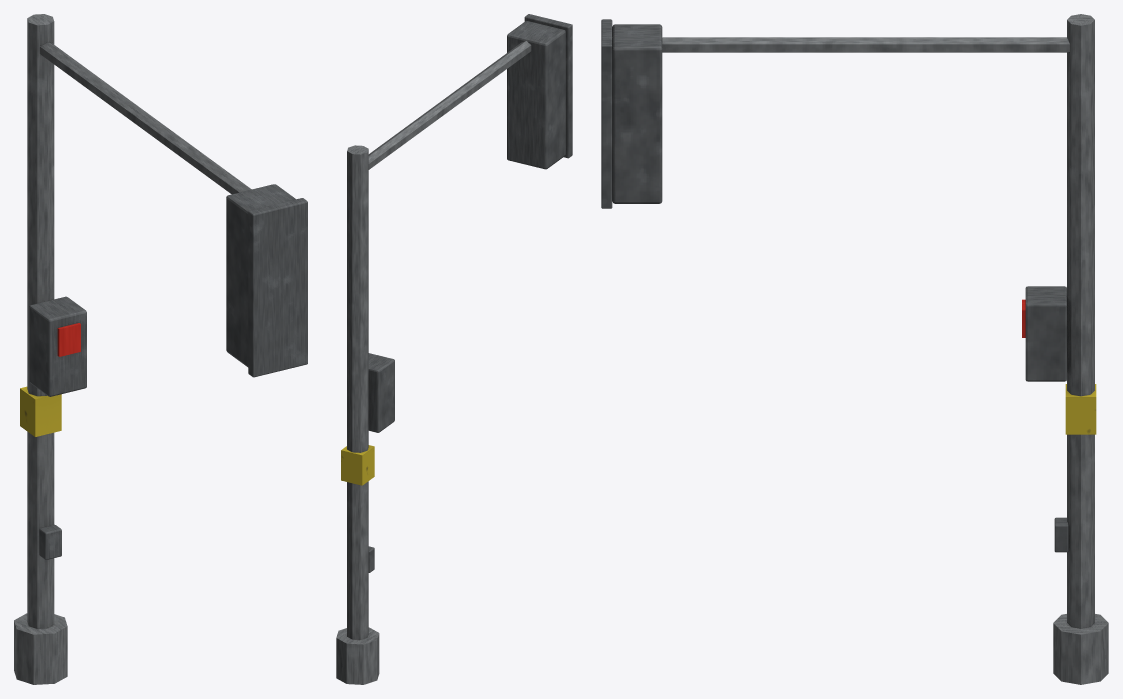
The model's file is city_traffic_light.glb.
3 views of the same model, side by side, from view 1: azimuth 30°, elevation 25°; view 2: azimuth 150°, elevation 25°; view 3: azimuth 270°, elevation 25° (orthographic). The views are drawn at different scales.
Parts seen in each view (by area): view 1: city_traffic_light; view 2: city_traffic_light; view 3: city_traffic_light.
Boxes of the visible parts, x1,y1,x2,y2 form: city_traffic_light: [14, 14, 307, 684]; city_traffic_light: [336, 14, 572, 684]; city_traffic_light: [601, 14, 1108, 684].
Size of the model in its own units: 0.46 by 5.2 by 3.66.
4 materials, 4 textured.
